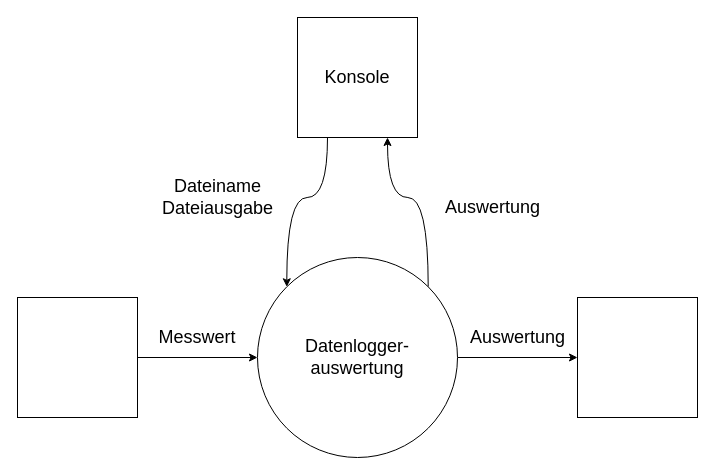
The diagram is 715 pixels wide and 475 high, and some of its shapes have lost their labels. The shapes that lost their labels are listed below. From the top down, each one's centre as x and y in pixels, then its label:
pixel 77 357: Messwert- datei
pixel 637 357: Ergebnis- datei
